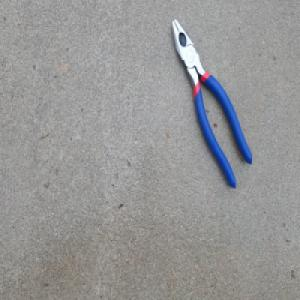Pliers: (170, 17, 254, 190)
